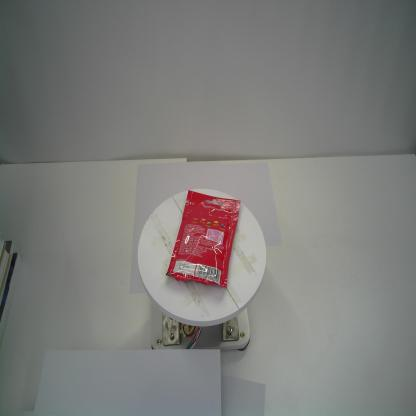Candy: (164, 187, 242, 289)
